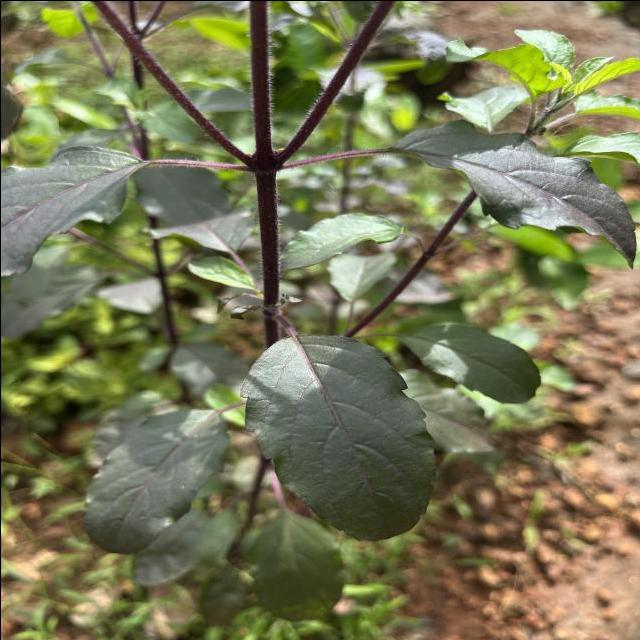Ocimum tenuiflorum: (234, 332, 441, 548), (382, 116, 638, 270)
